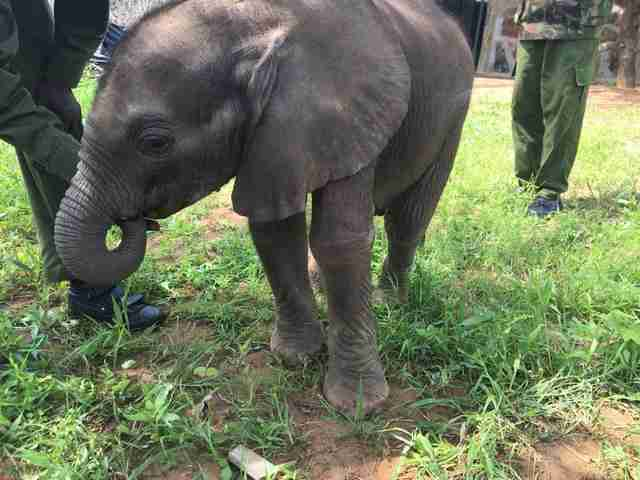elephant: (50, 2, 483, 416)
